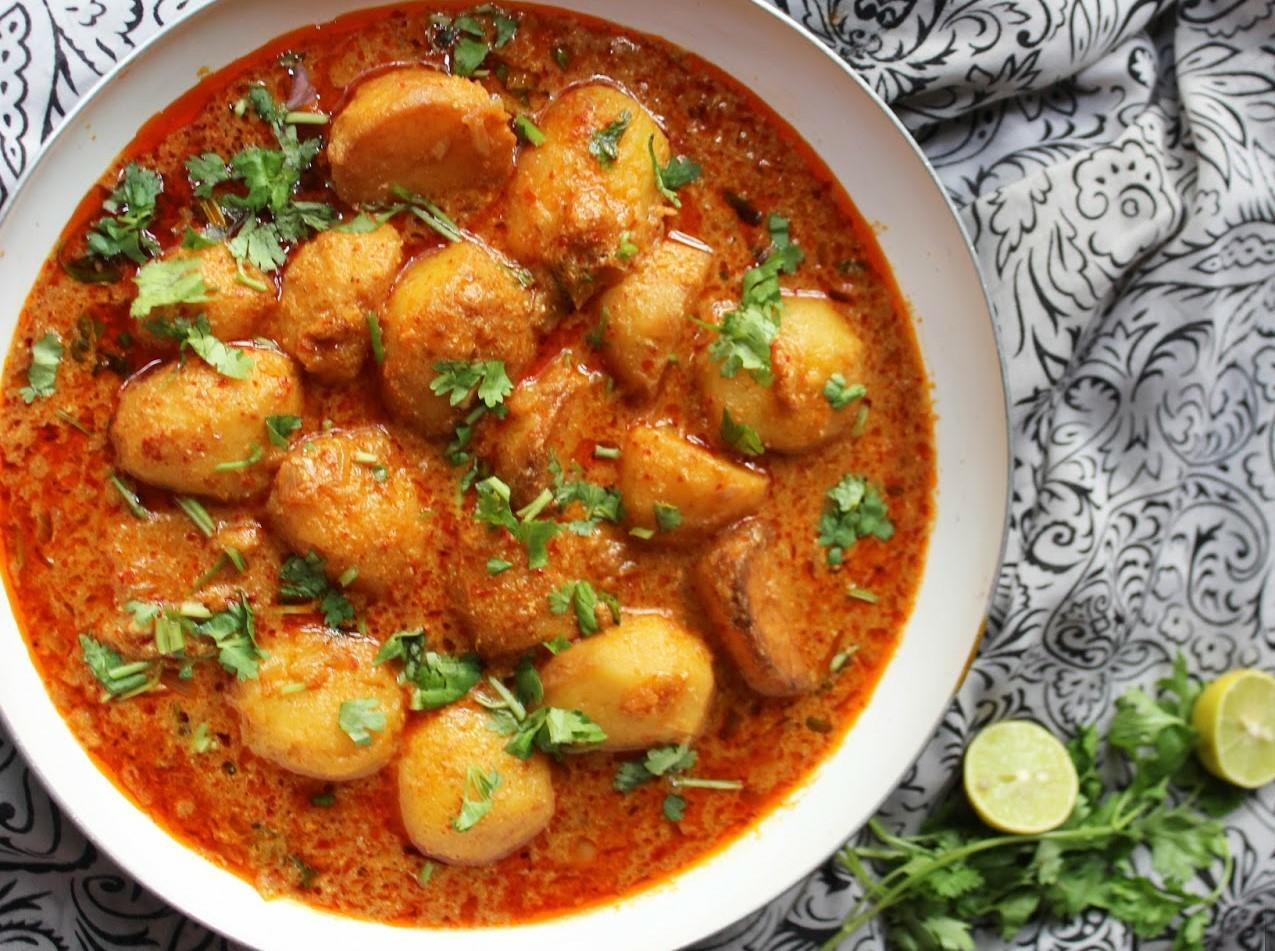DumAloo: (0, 0, 941, 926)
